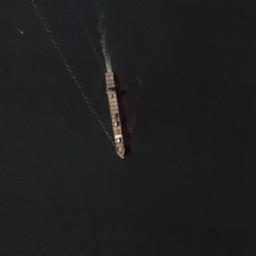boat: (103, 71, 125, 157), (21, 30, 23, 32)
